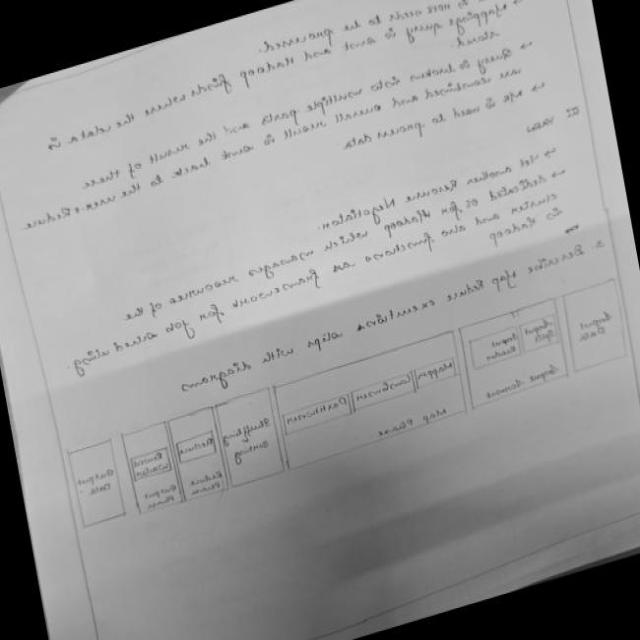Figure Detection - v3 Dataset Version2: (57, 270, 640, 542)
